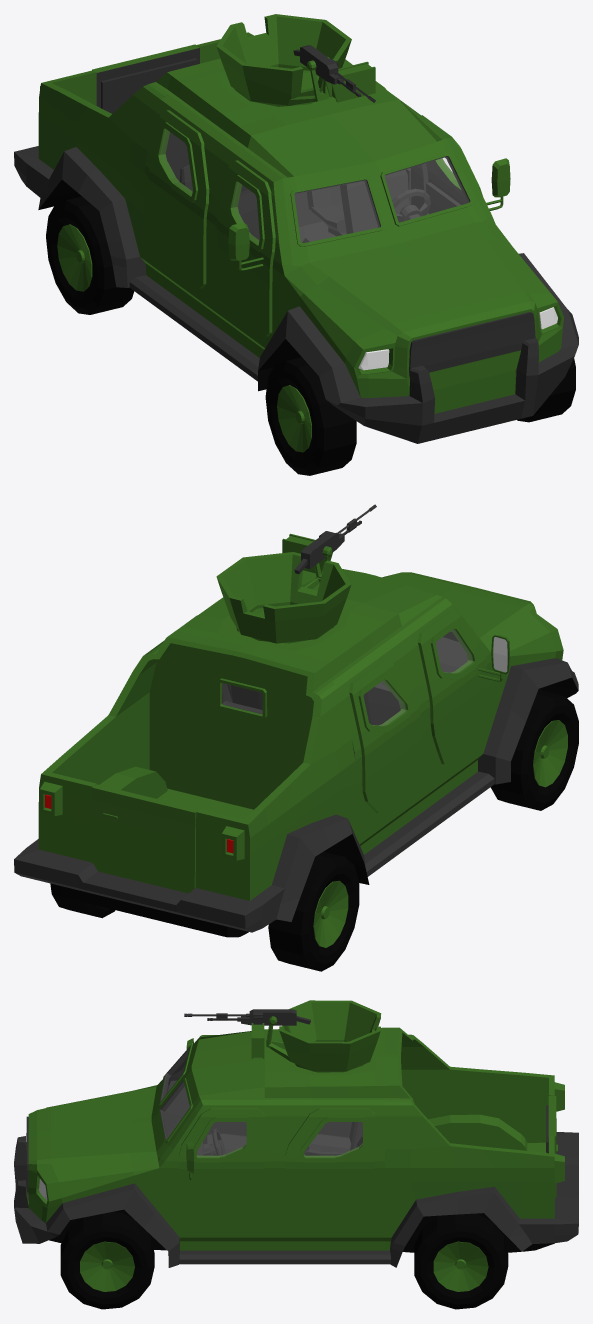
3 renders of one model, top to bottom at view 1: azimuth 30°, elevation 25°; view 2: azimuth 150°, elevation 25°; view 3: azimuth 270°, elevation 25°, orthographic. The views are drawn at different scales.
Visible parts, largest first — view 1: Plane.018, Plane.026, Plane.025, Cylinder.018, Plane.024, Plane.023, Cylinder.014, Plane.021, Cylinder.015, Plane.022, Plane.019, Cube.001 (+1 smaller); view 2: Plane.026, Plane.018, Cylinder.018, Plane.024, Plane.022, Plane.025, Cylinder.015, Cylinder.014, Plane.023, Cube.001, Plane.021, Cylinder.017; view 3: Plane.018, Plane.026, Plane.020, Plane.019, Cylinder.016, Cylinder.017, Cylinder.018, Plane.023, Cube.001, Plane.021, Plane.022, Plane.024 (+1 smaller).
Part boxes in pixels (x1=…): Plane.018: x1=14, y1=59, x2=578, y2=443; Plane.026: x1=38, y1=32, x2=253, y2=276; Plane.025: x1=148, y1=110, x2=209, y2=288; Cylinder.018: x1=216, y1=14, x2=351, y2=106; Plane.024: x1=216, y1=160, x2=275, y2=336; Plane.023: x1=165, y1=132, x2=470, y2=242; Cylinder.014: x1=265, y1=357, x2=356, y2=475; Plane.021: x1=295, y1=157, x2=468, y2=242; Cylinder.015: x1=46, y1=196, x2=134, y2=314; Plane.022: x1=92, y1=44, x2=199, y2=113; Plane.019: x1=421, y1=115, x2=510, y2=214; Cube.001: x1=293, y1=45, x2=375, y2=102; Plane.026: x1=38, y1=630, x2=355, y2=900; Plane.018: x1=14, y1=569, x2=578, y2=937; Cylinder.018: x1=216, y1=542, x2=351, y2=643; Plane.024: x1=417, y1=611, x2=509, y2=766; Plane.022: x1=92, y1=784, x2=198, y2=888; Plane.025: x1=349, y1=660, x2=420, y2=813; Cylinder.015: x1=268, y1=851, x2=359, y2=971; Cylinder.014: x1=490, y1=690, x2=578, y2=810; Plane.023: x1=222, y1=629, x2=467, y2=812; Cube.001: x1=282, y1=504, x2=376, y2=574; Plane.021: x1=222, y1=684, x2=261, y2=713; Cylinder.017: x1=50, y1=883, x2=115, y2=918; Plane.018: x1=14, y1=1027, x2=578, y2=1267; Plane.026: x1=385, y1=1027, x2=554, y2=1250; Plane.020: x1=285, y1=1108, x2=374, y2=1226; Plane.019: x1=179, y1=1108, x2=264, y2=1226; Cylinder.016: x1=60, y1=1212, x2=154, y2=1309; Cylinder.017: x1=414, y1=1213, x2=508, y2=1309; Cylinder.018: x1=266, y1=1000, x2=381, y2=1072; Plane.023: x1=160, y1=1047, x2=362, y2=1155; Cube.001: x1=184, y1=1009, x2=310, y2=1058; Plane.021: x1=161, y1=1050, x2=189, y2=1138; Plane.022: x1=546, y1=1096, x2=557, y2=1197; Plane.024: x1=179, y1=1038, x2=246, y2=1143.
Bounding box in the file's own units: 295 × 310 × 637.
